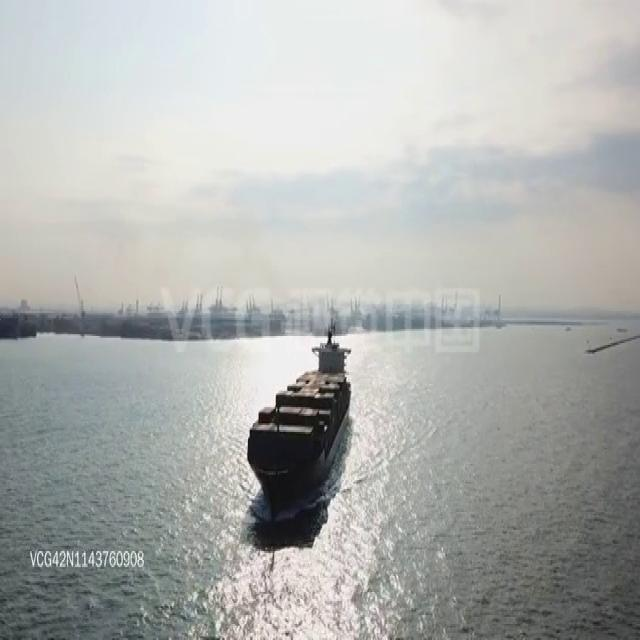cargoship: (244, 325, 352, 512)
